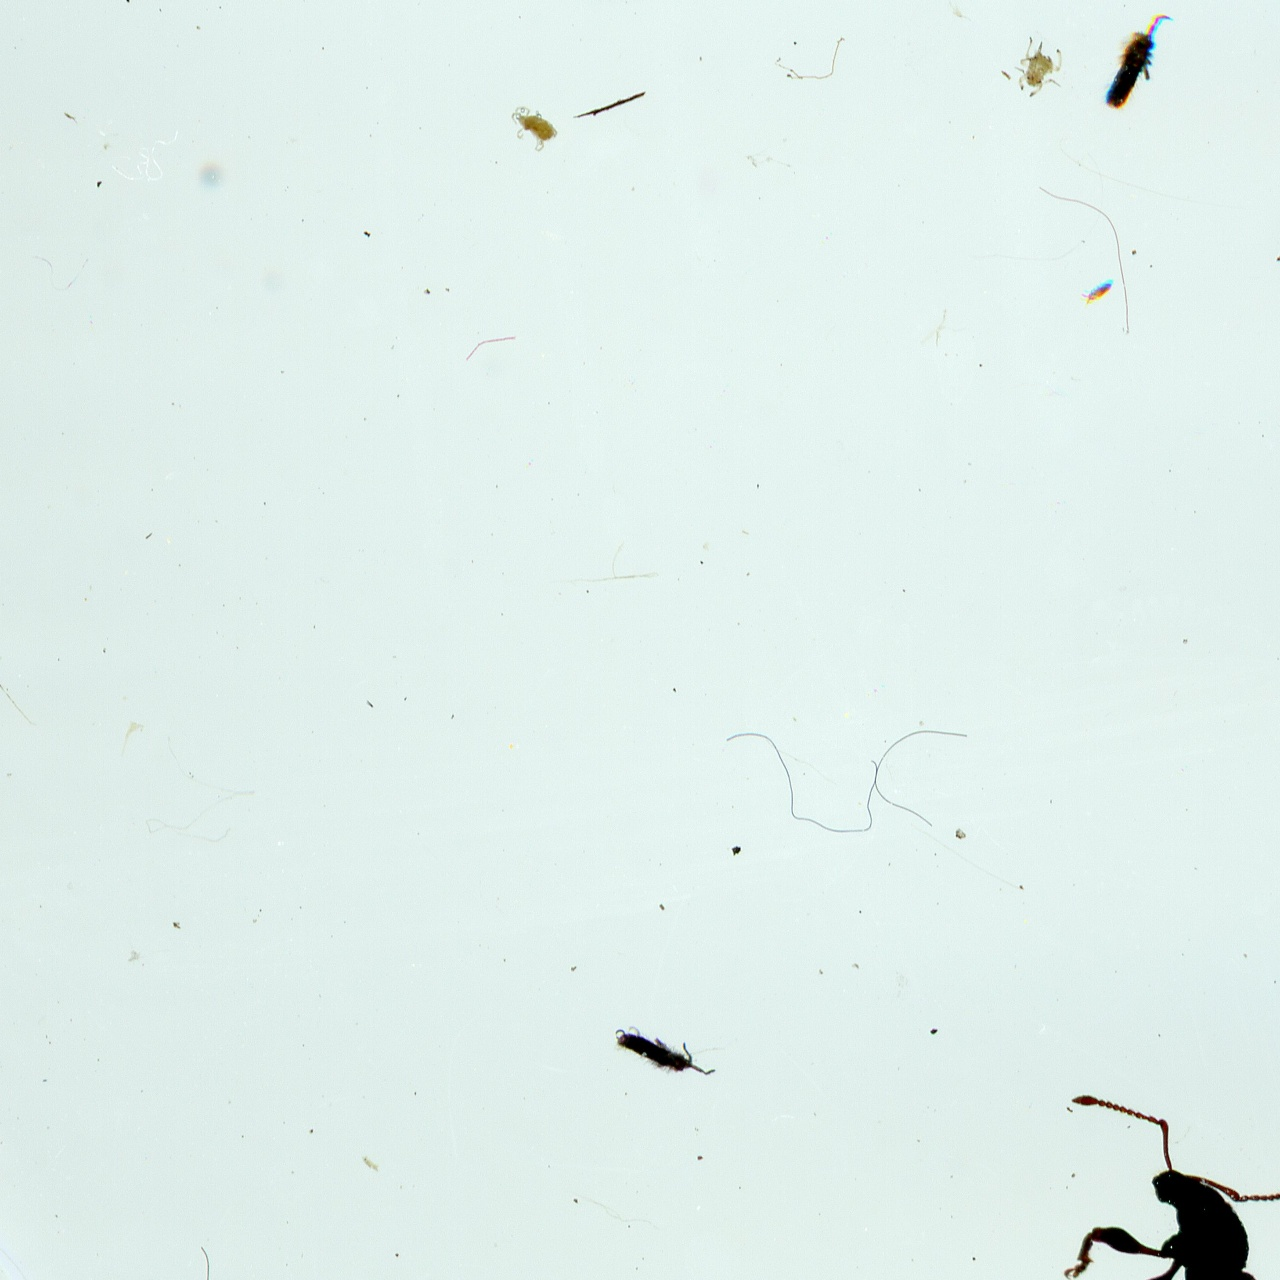arthropod: (1055, 1088, 1280, 1280), (1092, 0, 1182, 125), (610, 1020, 720, 1088), (1013, 34, 1067, 100), (508, 101, 564, 159), (1081, 277, 1116, 307)
